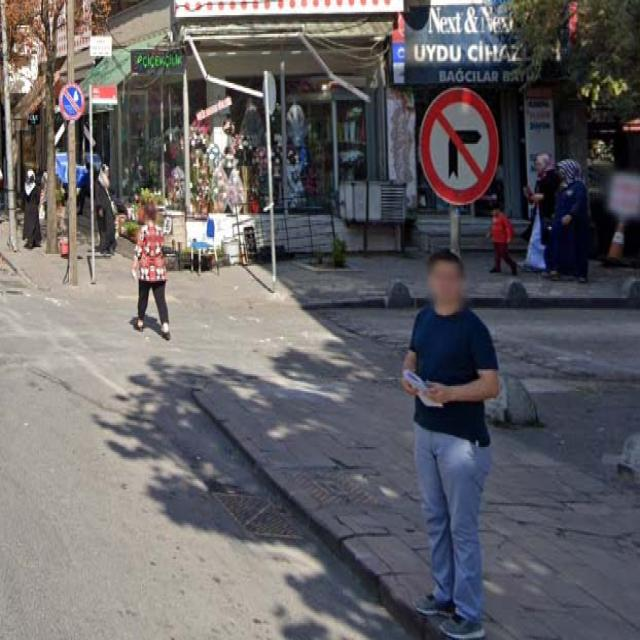parkyasak: (59, 83, 86, 120)
sagadonulmez: (417, 86, 498, 204)
